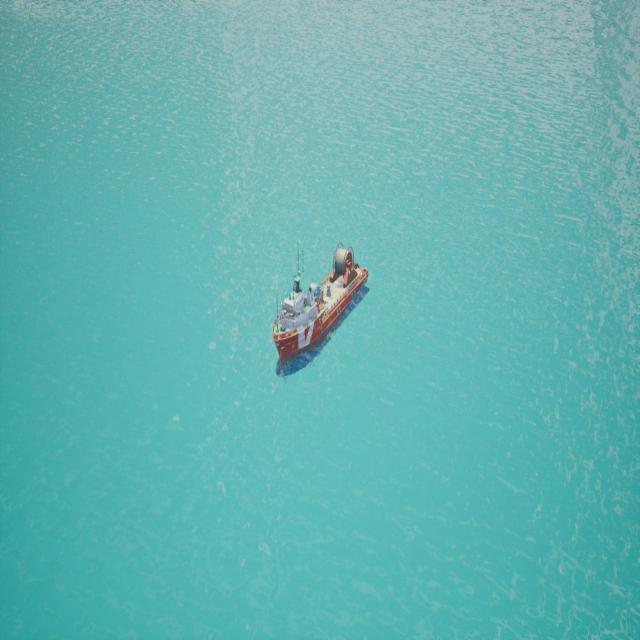tug boat: (270, 247, 370, 381)
